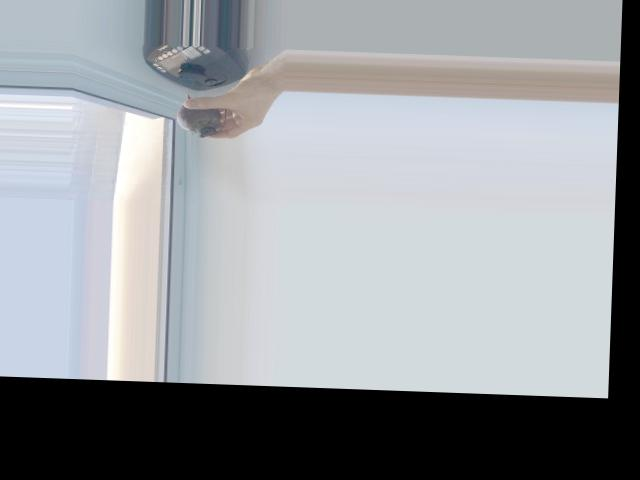beet: (175, 93, 226, 138)
